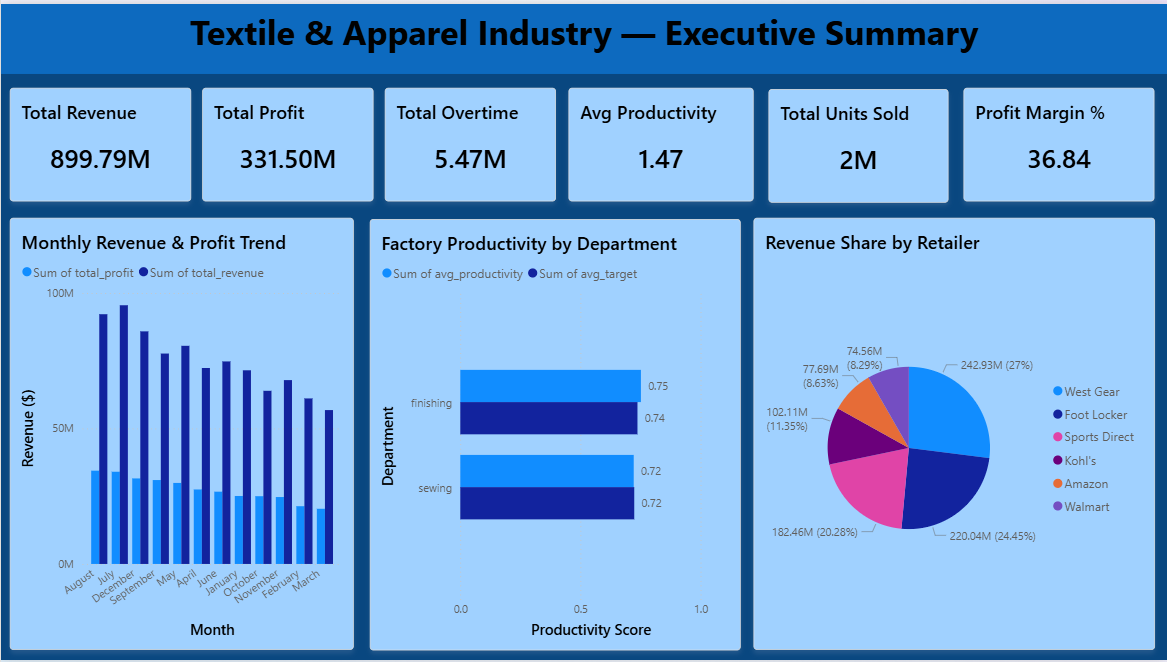

This screenshot's page, from the dashboard's own definition file:
{"tool":"powerbi","page":{"name":"Executive Summary","canvas":[1280,720],"ordinal":3},"visuals":[{"type":"card","title":"Total Revenue","fields":{"Values":["Sum(vw_kpi_summary.total_revenue)"]},"box":[9.6,91.9,199,124.9],"z":0},{"type":"card","title":"Profit Margin %","fields":{"Values":["Sum(vw_kpi_summary.profit_margin_pct)"]},"box":[1056.6,91.9,209.9,124.9],"z":1000},{"type":"card","title":"Avg Productivity","fields":{"Values":["Sum(vw_department_summary.avg_productivity)"]},"box":[623,91.9,203.1,124.9],"z":2000},{"type":"card","title":"Total Profit","fields":{"Values":["Sum(vw_kpi_summary.total_profit)"]},"box":[220.9,91.9,188,124.9],"z":3000},{"type":"card","title":"Total Overtime","fields":{"Values":["Sum(vw_team_productivity.total_overtime)"]},"box":[421.3,91.9,188,124.9],"z":4000},{"type":"card","title":"Total Units Sold","fields":{"Values":["Sum(vw_kpi_summary.total_units_sold)"]},"box":[842.5,93.3,197.6,124.9],"z":5000},{"type":"clusteredColumnChart","title":"Monthly Revenue & Profit Trend","fields":{"Category":["vw_monthly_sales.month_name"],"Y":["Sum(vw_monthly_sales.total_profit)","Sum(vw_monthly_sales.total_revenue)"]},"box":[9.6,234.6,377.4,474.8],"z":6000},{"type":"clusteredBarChart","title":"Factory Productivity by Department","fields":{"Category":["vw_department_summary.department"],"Y":["Sum(vw_department_summary.avg_productivity)","Sum(vw_department_summary.avg_target)"]},"box":[404.8,236,407.5,473.4],"z":7000},{"type":"pieChart","title":"Revenue Share by Retailer","fields":{"Category":["vw_retailer_sales.Retailer"],"Y":["Sum(vw_retailer_sales.total_revenue)"]},"box":[826.1,234.6,440.5,474.8],"z":8000},{"type":"textbox","box":[0,0,1280.3,76.8],"z":8001}]}

Visuals, with their boxes in screenshot pixels (x1, y1, x2, y2), scaled from the page's 1280x720 canvas onto the 1167x662 screenshot:
"Total Revenue" card: left=9, top=84, right=190, bottom=199
"Profit Margin %" card: left=963, top=84, right=1155, bottom=199
"Avg Productivity" card: left=568, top=84, right=753, bottom=199
"Total Profit" card: left=201, top=84, right=373, bottom=199
"Total Overtime" card: left=384, top=84, right=556, bottom=199
"Total Units Sold" card: left=768, top=86, right=948, bottom=201
"Monthly Revenue & Profit Trend" clusteredColumnChart: left=9, top=216, right=353, bottom=652
"Factory Productivity by Department" clusteredBarChart: left=369, top=217, right=741, bottom=652
"Revenue Share by Retailer" pieChart: left=753, top=216, right=1155, bottom=652
textbox: left=0, top=0, right=1166, bottom=71
